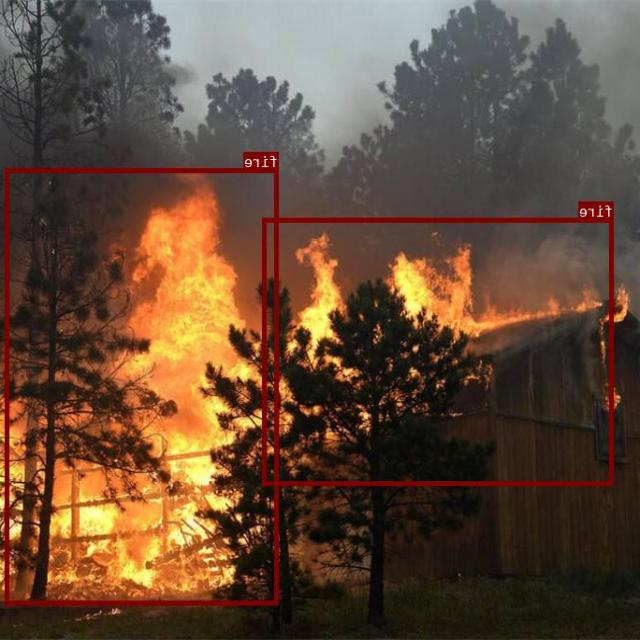fire: (6, 167, 280, 604), (263, 218, 614, 484)
